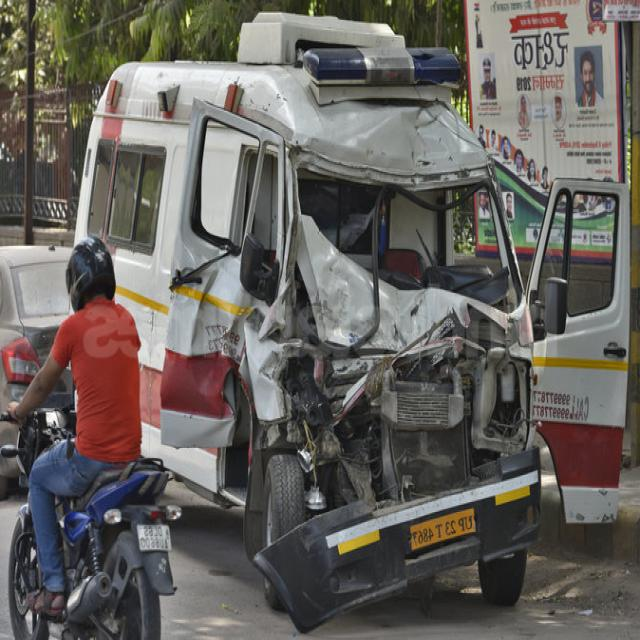accident: (76, 0, 630, 630)
car: (0, 248, 71, 412)
motorcycle: (2, 238, 181, 640)
